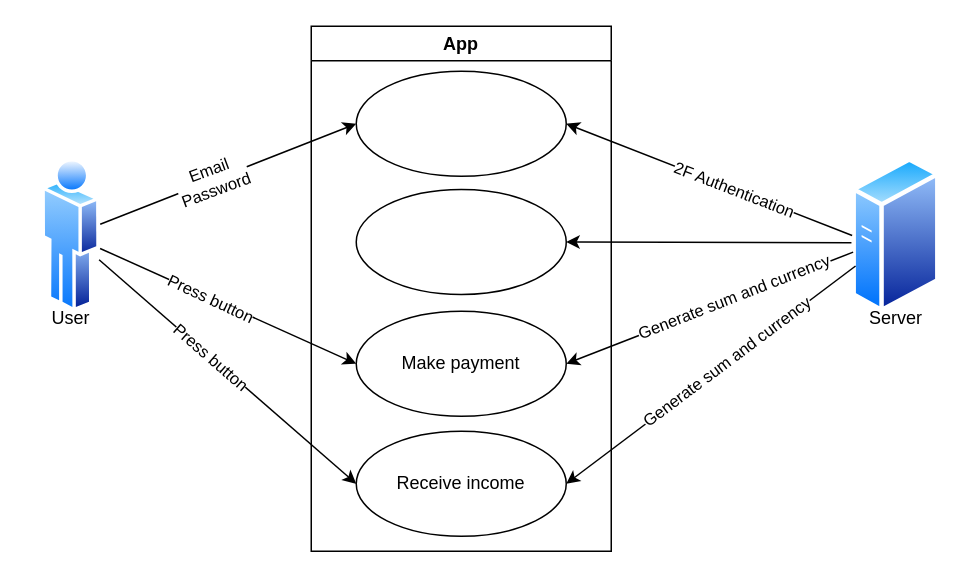
Image size: 966x578. Some labels were removed from this diagram. The box of each missing label's shape, as (x1, y1, x2, y2) in pixels:
Display balance Transaction history: (355, 188, 566, 294)
Login: (355, 70, 566, 176)
